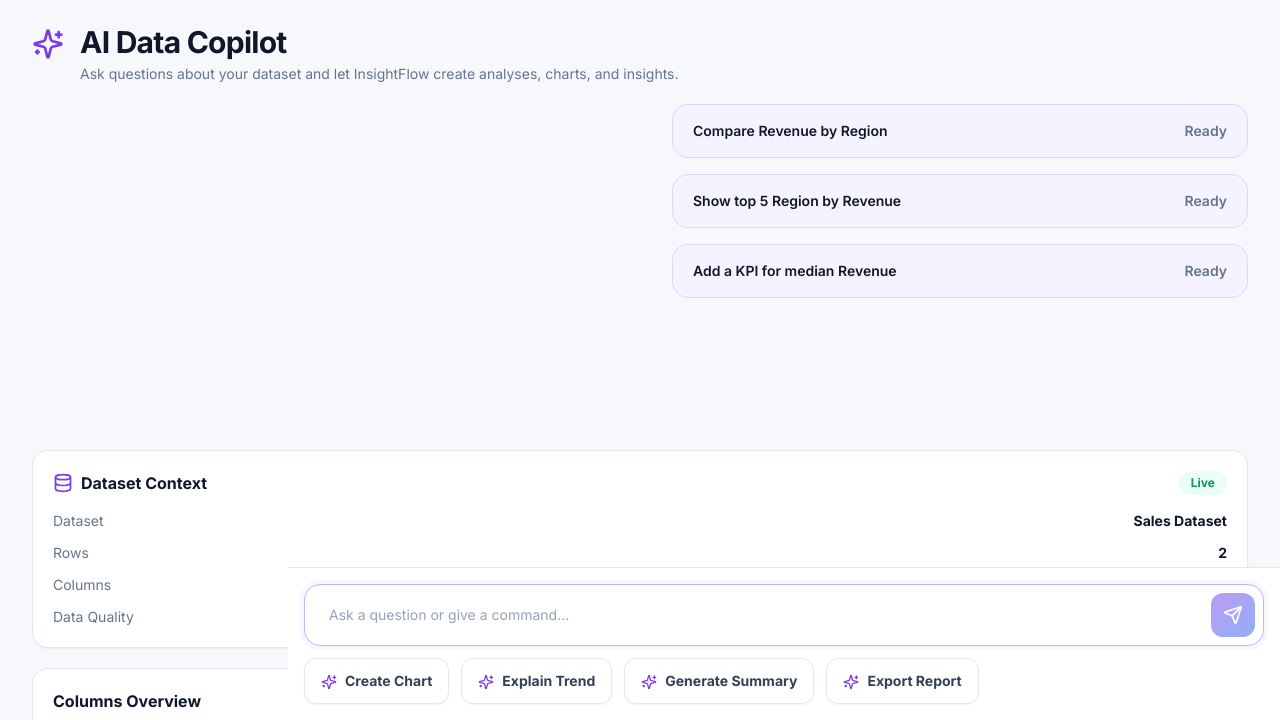
Test: ChatInterface AI commands validation in UI › processes a valid chart command and adds it to the chat messages
Type "Create revenue chart by region" into the field with placeholder "Ask a question or give a command..." at (758, 615), box [313,593,1203,637]
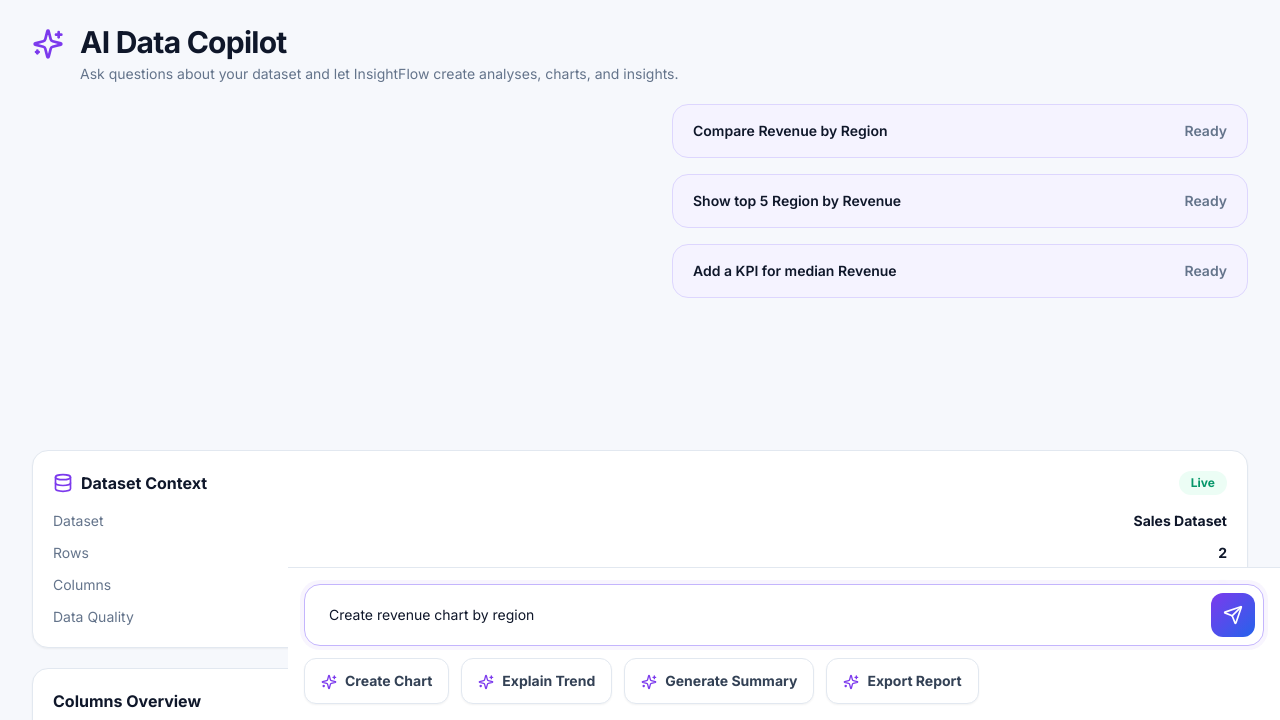
Click the button named "Send command" at (1233, 615), box [1211,593,1255,637]
(page scrolled)
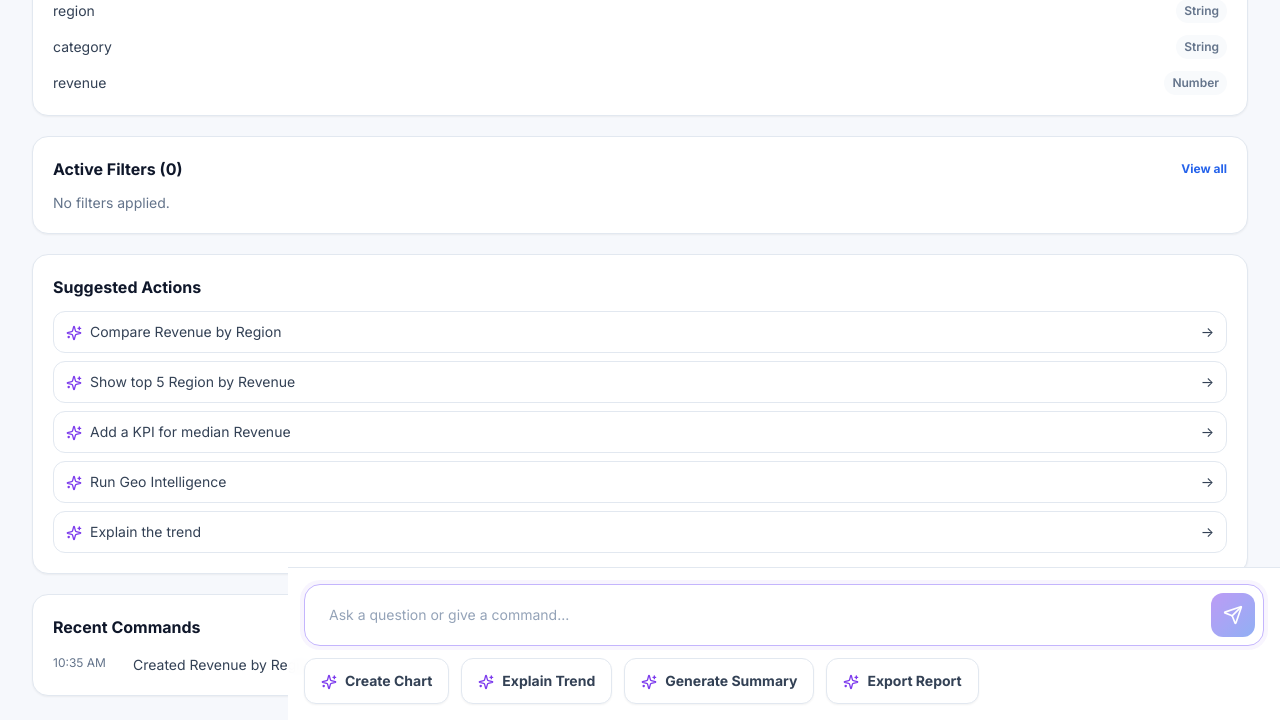
Expected: the text "Created Revenue by Region" is shown, [133,656,316,673]
